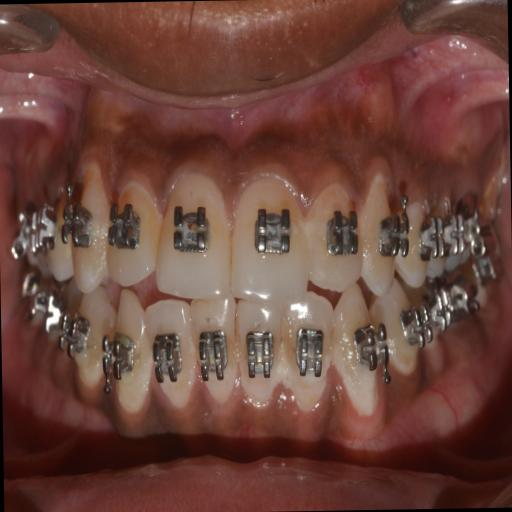correct_brace: (166, 200, 212, 258), (250, 201, 294, 261), (291, 321, 331, 386), (104, 196, 141, 258), (148, 329, 184, 388), (198, 324, 232, 386), (326, 204, 360, 264), (244, 326, 276, 380)
incorrect_brace: (304, 171, 366, 294), (140, 296, 197, 418), (279, 293, 338, 405), (104, 168, 158, 290)
